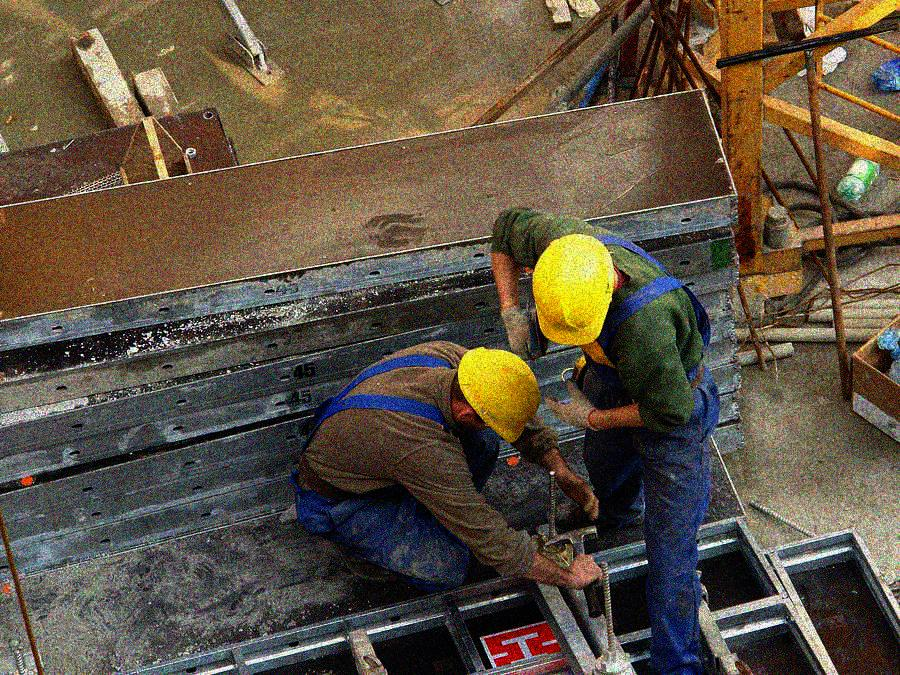helmet: (530, 233, 616, 348), (452, 348, 544, 444)
